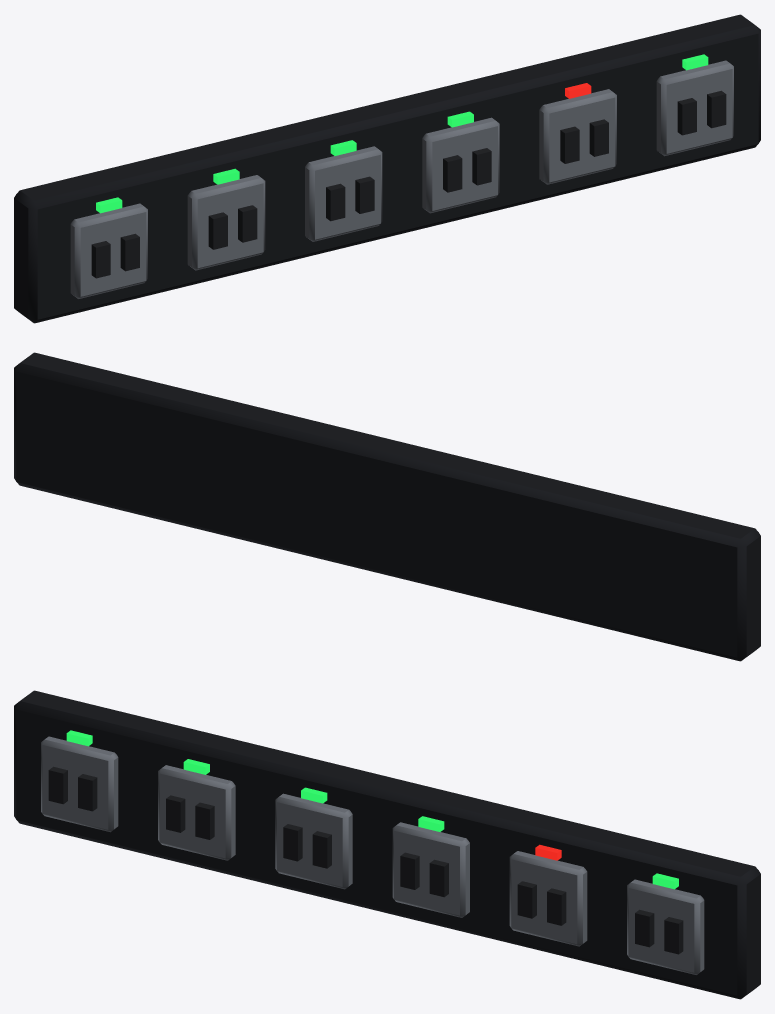
File: junction_outlet_strip_panel.glb
The picture shows the model from 3 angles, top to bottom: view 1: azimuth 30°, elevation 25°; view 2: azimuth 150°, elevation 25°; view 3: azimuth 330°, elevation 25°; orthographic projection.
Visible parts, largest first — view 1: junction_outlet_strip_panel; view 2: junction_outlet_strip_panel; view 3: junction_outlet_strip_panel.
Boxes of the visible parts, <box> form: junction_outlet_strip_panel: <box>14,14,760,323</box>; junction_outlet_strip_panel: <box>14,352,760,661</box>; junction_outlet_strip_panel: <box>14,690,760,999</box>.
Size of the model in its own units: 1 by 0.16 by 0.081.
